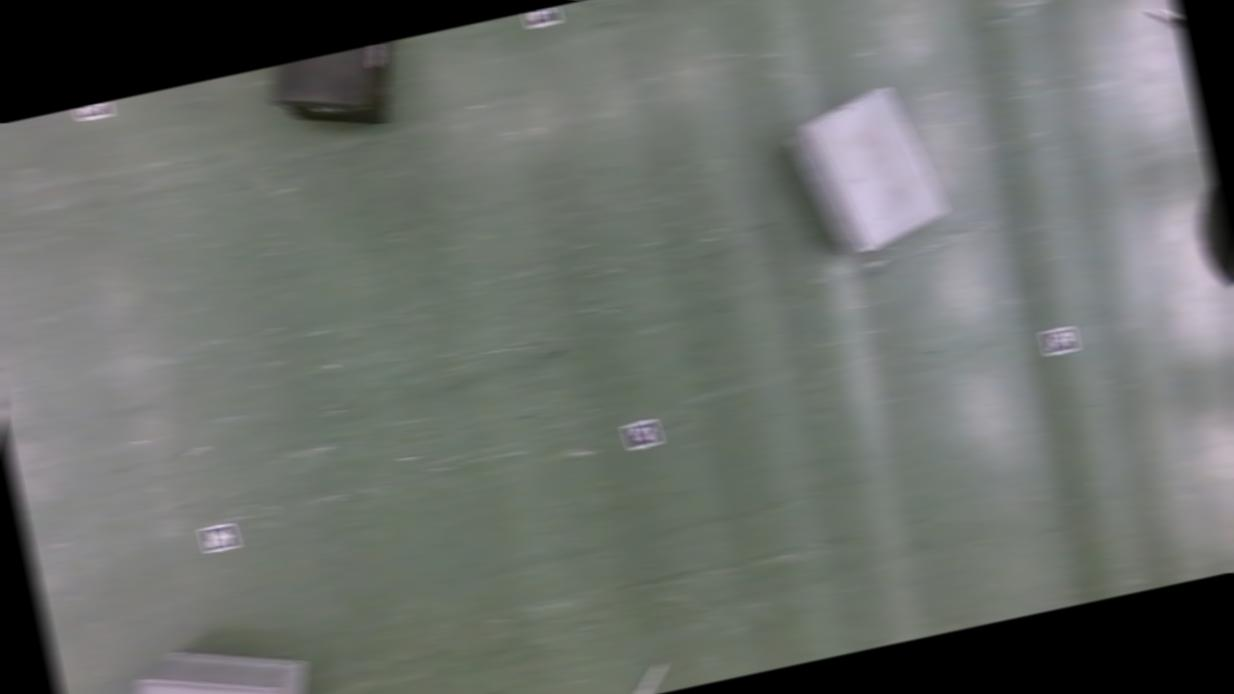probes: (628, 660, 670, 694), (1146, 4, 1183, 38), (0, 353, 17, 420)
rako: (262, 38, 418, 146)
